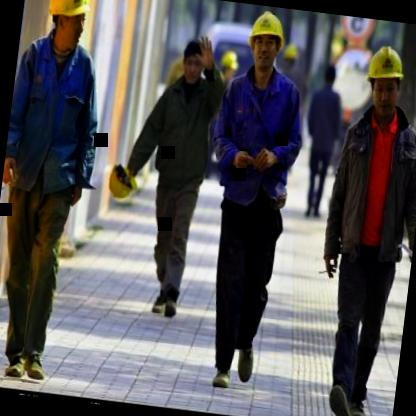head: (176, 30, 210, 88)
helmet: (356, 35, 412, 122), (240, 3, 290, 78), (37, 0, 94, 60), (219, 48, 242, 80)
